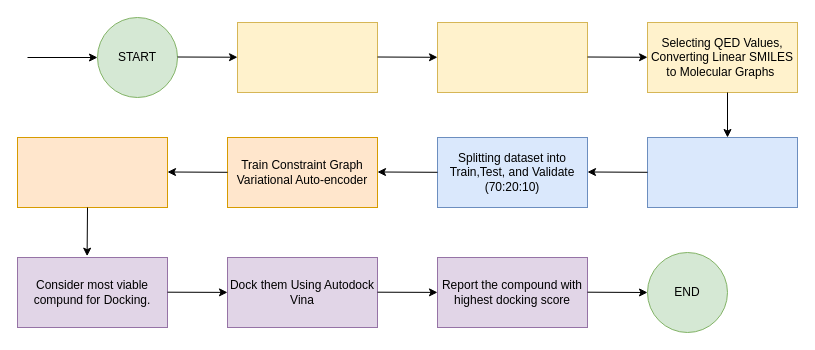
The diagram is 815 pixels wide and 350 high, and some of its shapes have lost their labels. Here are the shapes that lost their labels. From the top down, the box of each, then its label:
(236, 22, 378, 92): Construction of Dataset
(436, 22, 588, 92): Extracting Bioassays of Similar Proteins (SARS,MERS, HIV, and Hepatitsis)
(16, 136, 168, 208): Using Generation Phase of CGAVE, we generate new compounds
(646, 136, 798, 208): Preprocessing of Data
